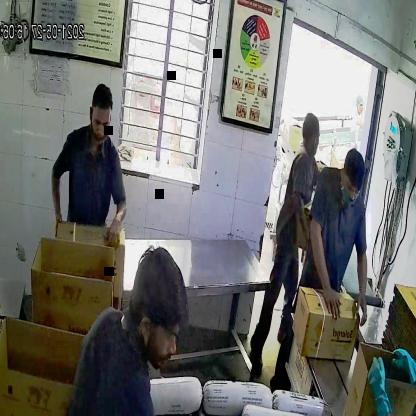no_goggles: (340, 175, 366, 201), (86, 111, 114, 135)
